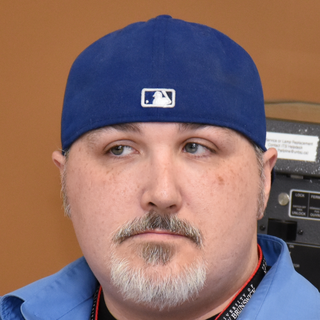eye: (175, 136, 221, 161), (97, 140, 146, 163)
